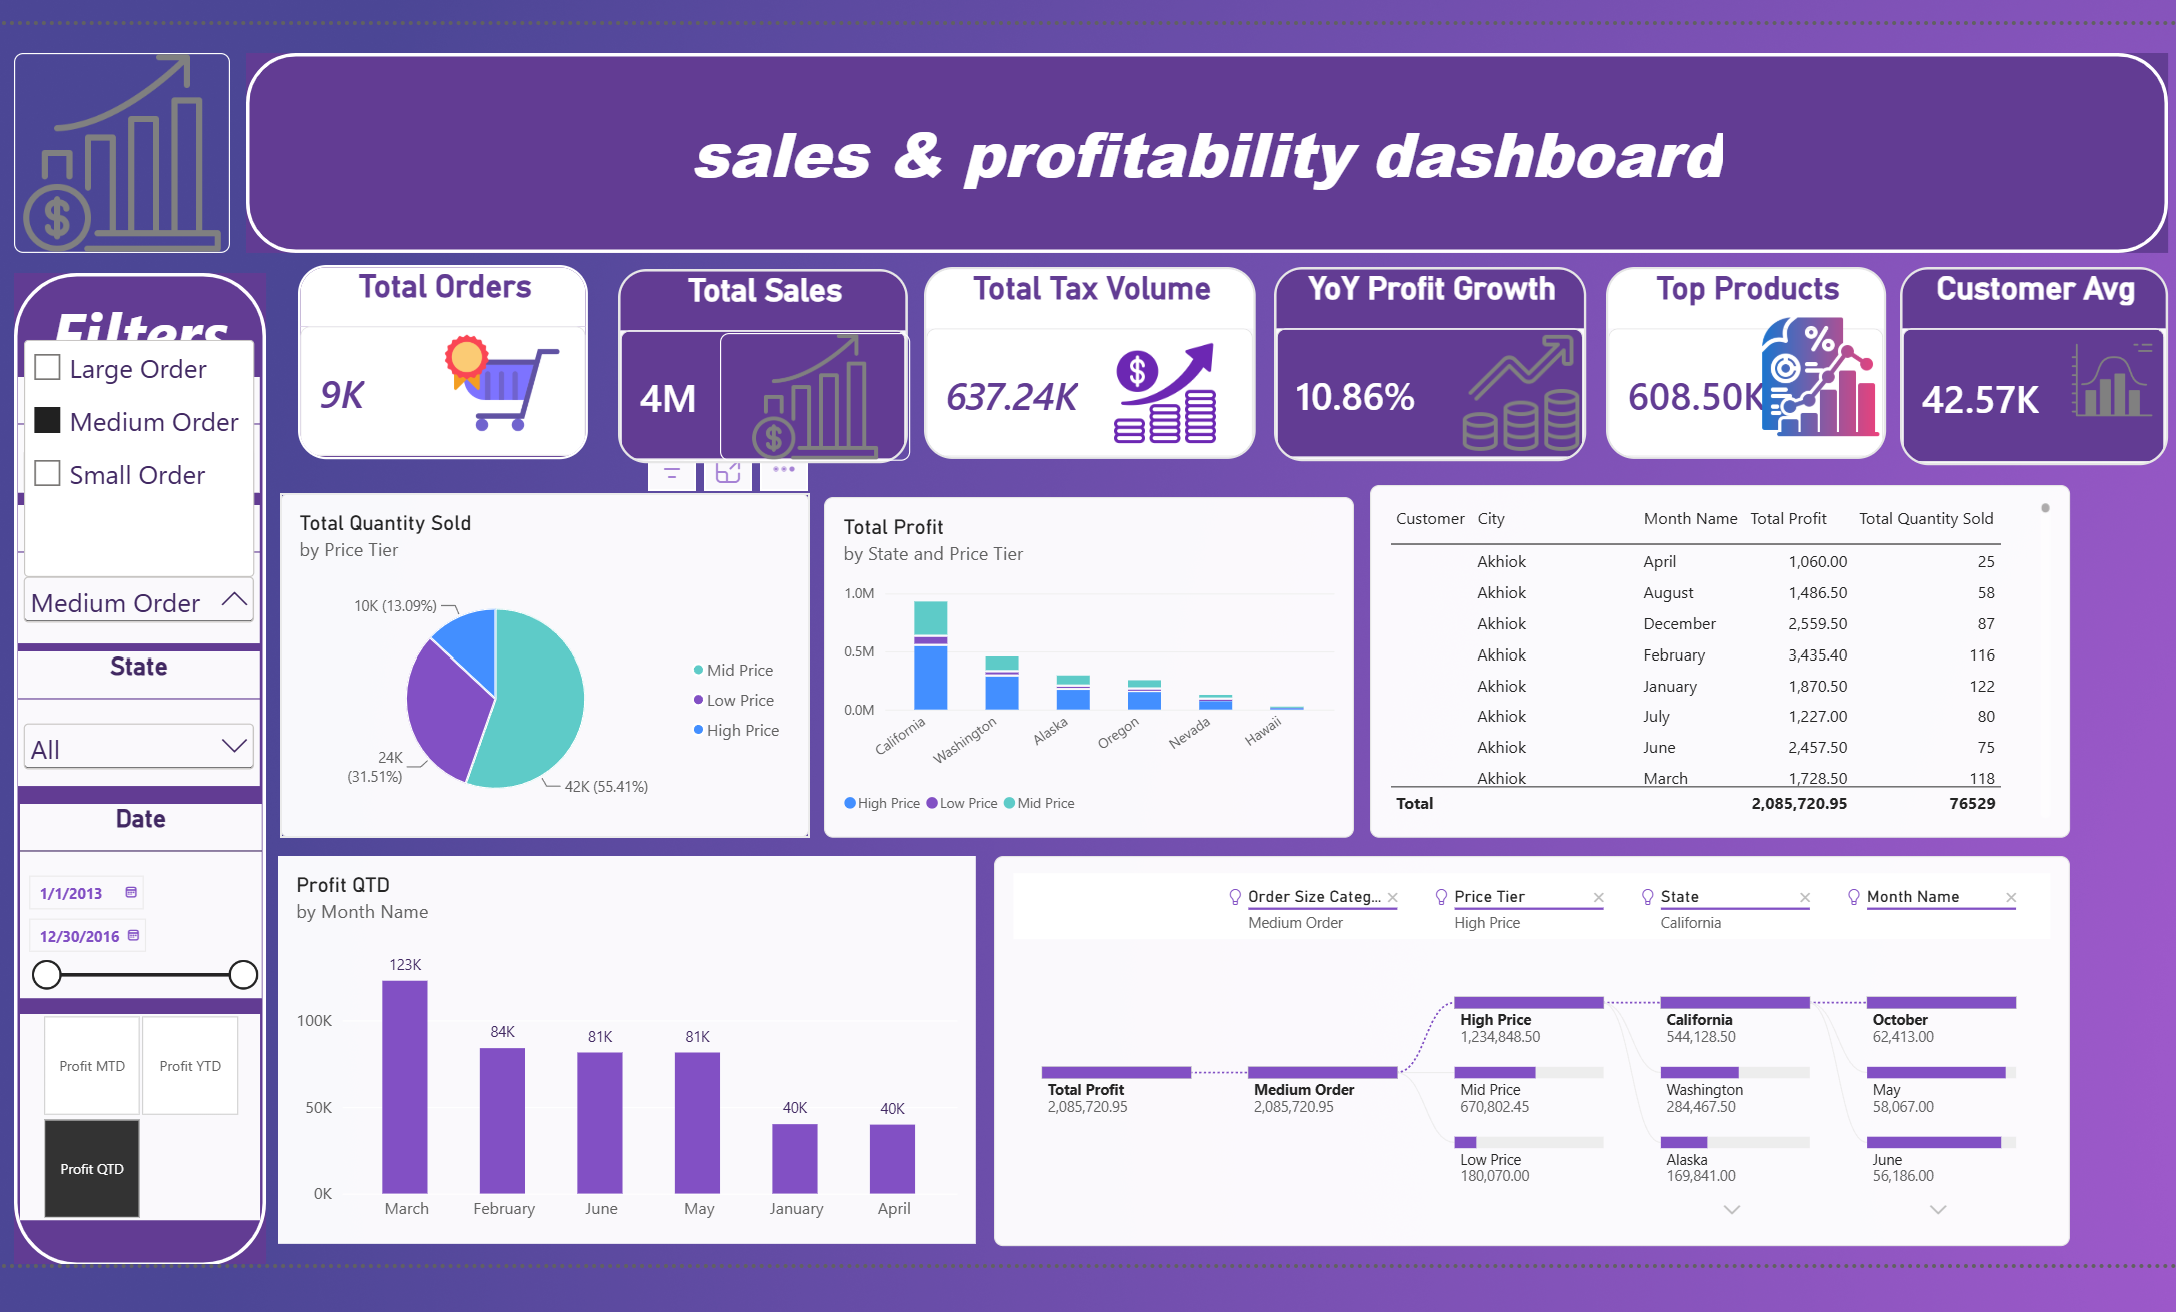

The page's visual inventory and layout, read from the dashboard file:
{"tool":"powerbi","page":{"name":"DashBoard","canvas":[1920,1080],"ordinal":2},"visuals":[{"type":"cardVisual","title":"Total Orders","fields":{"Data":["Key Measures.Total Orders"]},"box":[261.8,209.5,253.1,169.3],"z":0},{"type":"shape","box":[216.4,24.4,1677.4,174.5],"z":1000},{"type":"shape","box":[14,216.4,219.9,865.7],"z":2000},{"type":"cardVisual","title":"Total Tax Volume","fields":{"Data":["Key Measures.Total Tax Collected"]},"box":[808.1,211.2,289.7,167.6],"z":3000},{"type":"cardVisual","title":"YoY Profit Growth","fields":{"Data":["Key Measures.Sales YoY Growth %"]},"box":[1113.6,211.2,272.3,169.3],"z":4000},{"type":"cardVisual","title":"Top Products ","fields":{"Data":["Key Measures.Top 5 Products Profit"]},"box":[1403.3,211.2,244.4,167.6],"z":5000},{"type":"slicer","title":"Price Tier","fields":{"Values":["DimStockItem2.Price Tier"]},"box":[17.5,307.2,211.2,101.2],"z":6000},{"type":"slicer","title":"Order Size Category","fields":{"Values":["FactSales1.Order Size Category"]},"box":[17.5,418.9,211.2,120.4],"z":7000},{"type":"slicer","title":"State","fields":{"Values":["Dimcity6.State"]},"box":[17.5,546.3,211.2,116.9],"z":8000},{"type":"pieChart","fields":{"Category":["DimStockItem2.Price Tier"],"Y":["Key Measures.Total Quantity Sold"]},"box":[245.9,408.1,462.2,300],"z":9000},{"type":"clusteredColumnChart","fields":{"Category":["DimDate4.Month Name"],"Y":["Key Measures.Profit QTD"]},"box":[244.4,724.4,609.2,338.6],"z":10000},{"type":"columnChart","fields":{"Category":["Dimcity6.State"],"Series":["DimStockItem2.Price Tier"],"Y":["Key Measures.Total Profit"]},"box":[720.9,411.9,462.5,296.7],"z":11000},{"type":"decompositionTreeVisual","fields":{"Analyze":["Key Measures.Total Profit"],"ExplainBy":["FactSales1.Order Size Category","DimStockItem2.Price Tier","Dimcity6.State","DimDate4.Month Name"]},"box":[869.2,724.4,939.1,340.4],"z":12000},{"type":"tableEx","fields":{"Values":["DimCustomer5.Customer","Dimcity6.City","DimDate4.Month Name","Key Measures.Total Profit","Key Measures.Total Quantity Sold"]},"box":[1197.4,401.5,610.9,307.2],"z":13000},{"type":"cardVisual","title":"Customer Avg ","fields":{"Data":["Key Measures.Avg Sales Per Customer"]},"box":[1659.9,211.2,233.9,172.8],"z":14000},{"type":"image","box":[14,24.4,188.5,174.5],"z":15000},{"type":"slicer","title":"Date","fields":{"Values":["DimDate4.Date"]},"box":[19.2,679,211.2,169.3],"z":16000},{"type":"image","box":[1523.8,247.9,136.1,118.7],"z":17000},{"type":"image","box":[974,260.1,89,122.2],"z":18000},{"type":"image","box":[1272.4,267.1,113.5,108.2],"z":19000},{"type":"image","box":[377,230.4,122.2,151.9],"z":20000},{"type":"image","box":[1808.3,247.9,73.3,123.9],"z":21000},{"type":"slicer","fields":{"Values":["Time Frame Selector.Time Frame Selector"]},"box":[19.2,862.3,209.5,179.8],"z":22000},{"type":"cardVisual","title":"Total Sales","fields":{"Data":["Key Measures.Total Revenue"]},"box":[541.1,212.9,253.1,169.3],"z":24000},{"type":"image","box":[630.1,268.8,165.8,111.7],"z":25000}]}

Visuals, with their boxes in screenshot pixels (x1, y1, x2, y2):
"Total Orders" cardVisual: {"left": 292, "top": 260, "right": 585, "bottom": 456}
shape: {"left": 239, "top": 45, "right": 2175, "bottom": 247}
shape: {"left": 5, "top": 268, "right": 260, "bottom": 1271}
"Total Tax Volume" cardVisual: {"left": 925, "top": 262, "right": 1261, "bottom": 456}
"YoY Profit Growth" cardVisual: {"left": 1279, "top": 262, "right": 1595, "bottom": 458}
"Top Products " cardVisual: {"left": 1615, "top": 262, "right": 1898, "bottom": 456}
"Price Tier" slicer: {"left": 9, "top": 373, "right": 254, "bottom": 490}
"Order Size Category" slicer: {"left": 9, "top": 502, "right": 254, "bottom": 642}
"State" slicer: {"left": 9, "top": 650, "right": 254, "bottom": 785}
pieChart - DimStockItem2.Price Tier x Key Measures.Total Quantity Sold: {"left": 274, "top": 490, "right": 809, "bottom": 838}
clusteredColumnChart - DimDate4.Month Name x Key Measures.Profit QTD: {"left": 272, "top": 856, "right": 978, "bottom": 1249}
columnChart - Dimcity6.State x DimStockItem2.Price Tier: {"left": 824, "top": 494, "right": 1360, "bottom": 838}
decompositionTreeVisual - Key Measures.Total Profit x FactSales1.Order Size Category: {"left": 996, "top": 856, "right": 2084, "bottom": 1251}
tableEx - DimCustomer5.Customer x Dimcity6.City: {"left": 1376, "top": 482, "right": 2084, "bottom": 838}
"Customer Avg " cardVisual: {"left": 1912, "top": 262, "right": 2175, "bottom": 462}
image: {"left": 5, "top": 45, "right": 223, "bottom": 247}
"Date" slicer: {"left": 11, "top": 804, "right": 256, "bottom": 1000}
image: {"left": 1754, "top": 304, "right": 1912, "bottom": 442}
image: {"left": 1117, "top": 318, "right": 1220, "bottom": 460}
image: {"left": 1463, "top": 326, "right": 1595, "bottom": 452}
image: {"left": 426, "top": 284, "right": 567, "bottom": 460}
image: {"left": 2084, "top": 304, "right": 2169, "bottom": 448}
slicer - Time Frame Selector.Time Frame Selector: {"left": 11, "top": 1016, "right": 254, "bottom": 1225}
"Total Sales" cardVisual: {"left": 616, "top": 264, "right": 909, "bottom": 460}
image: {"left": 719, "top": 328, "right": 911, "bottom": 458}
